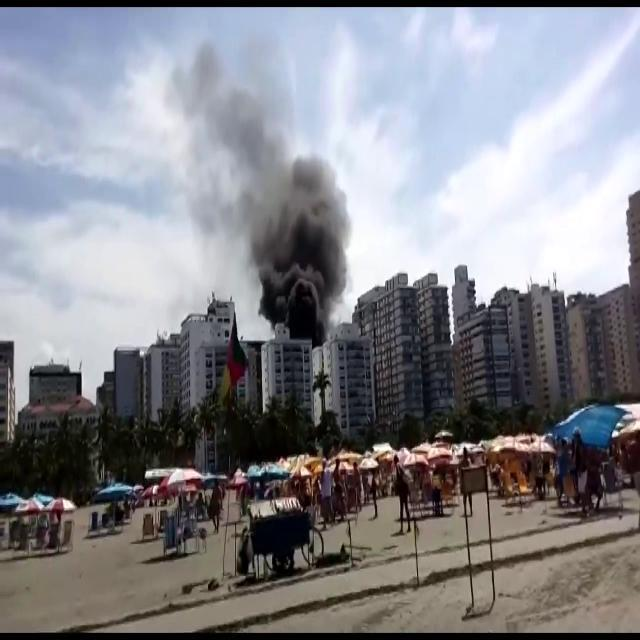Smoke: (231, 89, 352, 344)
